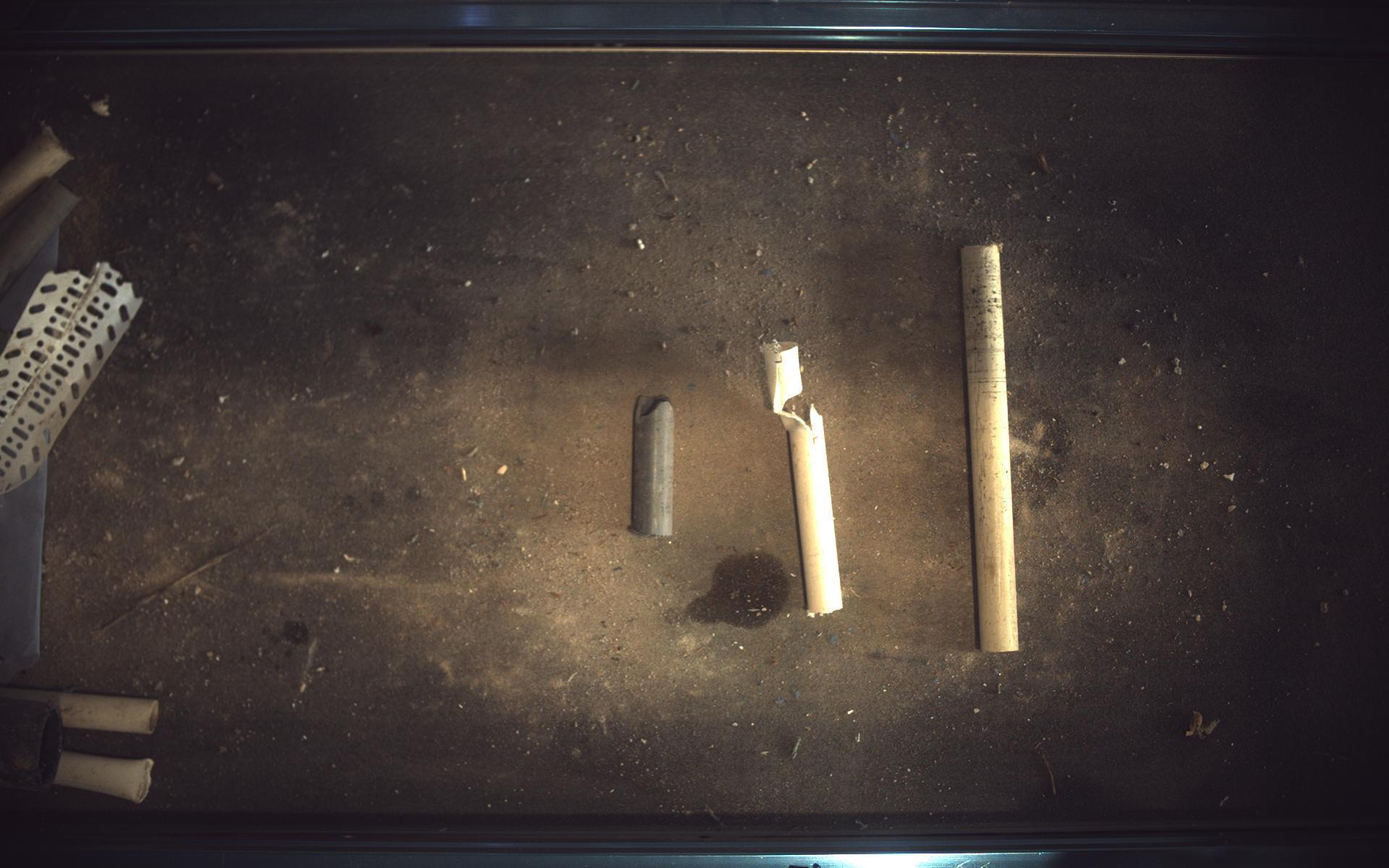pipes: (963, 244, 1021, 653), (763, 340, 844, 618), (1, 177, 77, 305), (1, 689, 158, 736), (1, 124, 71, 218), (632, 396, 675, 537), (1, 698, 61, 793), (51, 752, 153, 805)
plastic: (1, 262, 142, 495)
